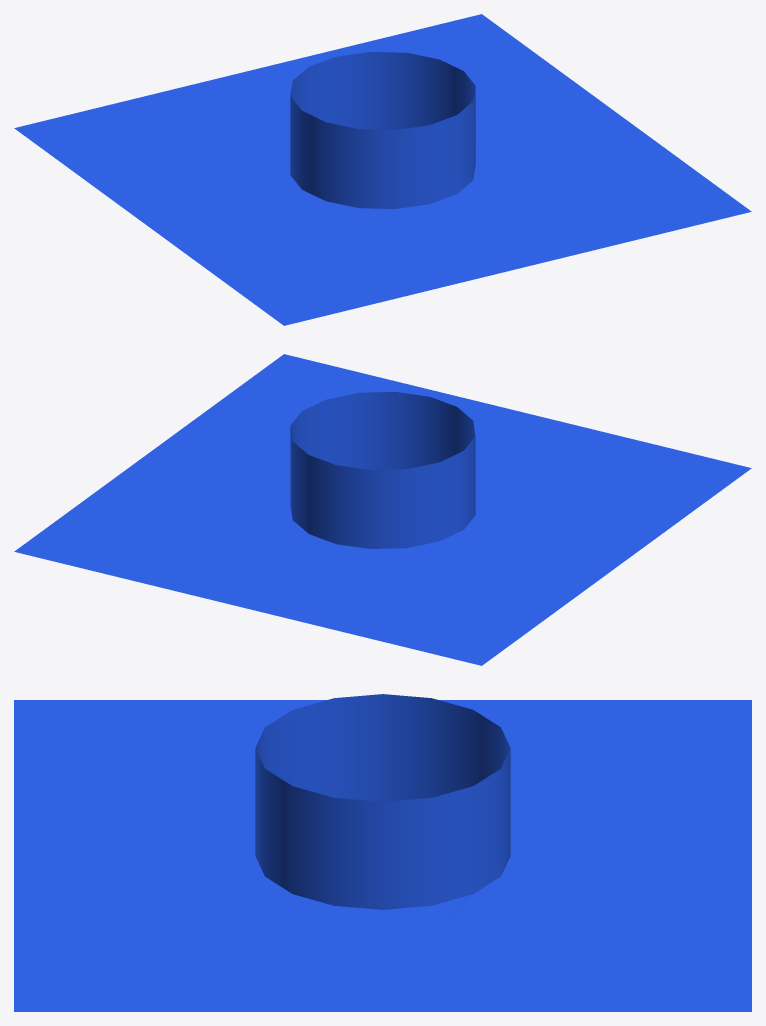
File: Dest_PoisonFactory_Field_Physic.FBX
3 views of the same model, one above another, from view 1: azimuth 30°, elevation 25°; view 2: azimuth 150°, elevation 25°; view 3: azimuth 270°, elevation 25° (orthographic). The views are drawn at different scales.
Visible parts, largest first — view 1: OilTank002; view 2: OilTank002; view 3: OilTank002.
Boxes of the visible parts, left/top/right/bottom form: OilTank002: left=14, top=14, right=751, bottom=325; OilTank002: left=14, top=354, right=751, bottom=665; OilTank002: left=14, top=694, right=751, bottom=1011.
Bounding box in the file's own units: 434 × 77.39 × 434.
